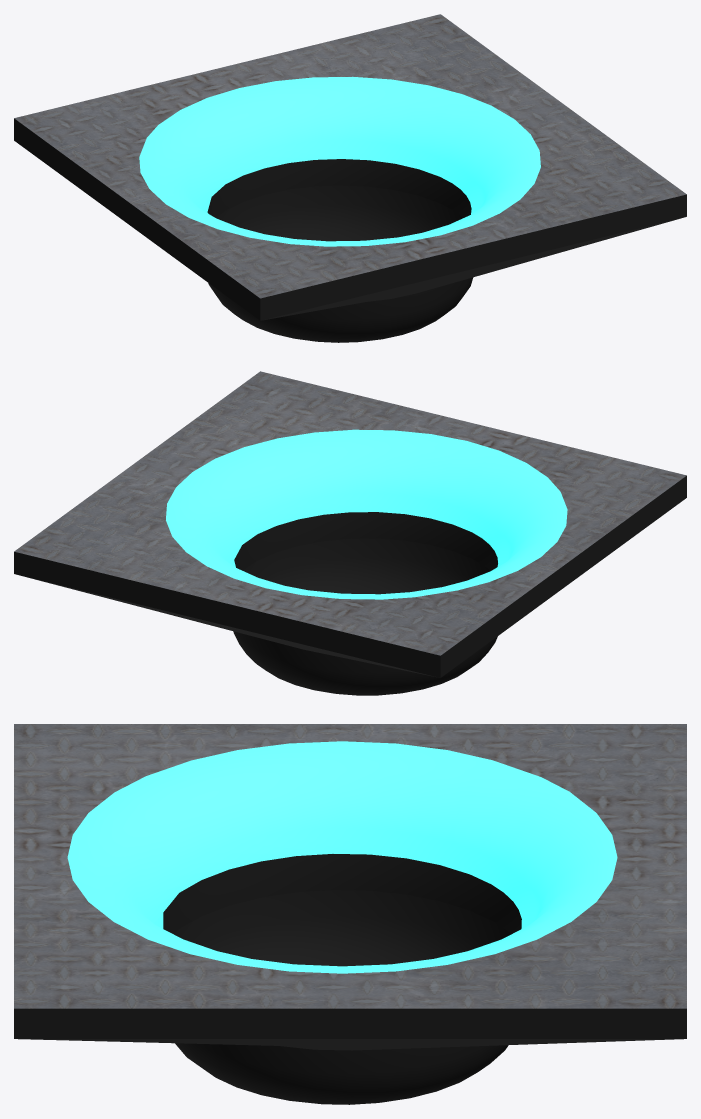
Rendered from backhole land.fbx.
3 renders of one model, top to bottom at view 1: azimuth 30°, elevation 25°; view 2: azimuth 150°, elevation 25°; view 3: azimuth 270°, elevation 25°, orthographic. The views are drawn at different scales.
Visible parts, largest first — view 1: backhole tile; view 2: backhole tile; view 3: backhole tile.
Part boxes in pixels (left/top/right/bottom): backhole tile: left=14, top=14, right=686, bottom=342; backhole tile: left=14, top=371, right=686, bottom=695; backhole tile: left=14, top=724, right=686, bottom=1104.
Size of the model in its own units: 200 by 62.52 by 200.
